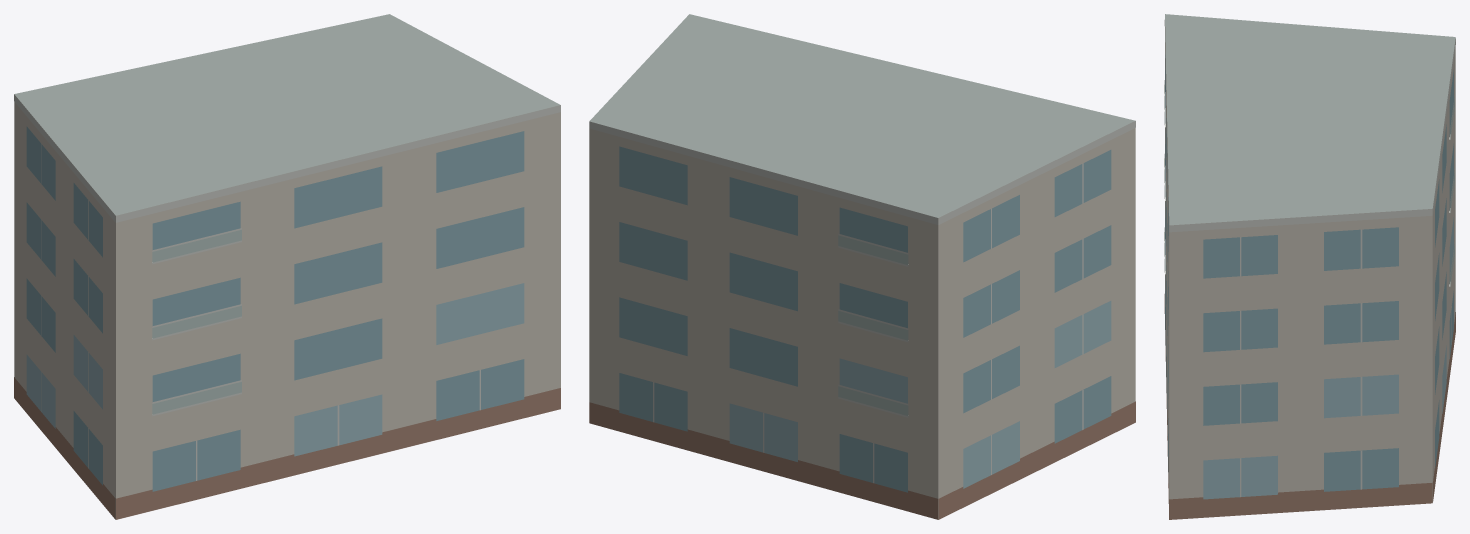
File: survey-upis-32789453.glb
The picture shows the model from 3 angles, left to right: view 1: azimuth 30°, elevation 25°; view 2: azimuth 150°, elevation 25°; view 3: azimuth 270°, elevation 25°; orthographic projection. The views are drawn at different scales.
Visible parts, largest first — view 1: survey-upis-32789453.tmp; view 2: survey-upis-32789453.tmp; view 3: survey-upis-32789453.tmp.
Part boxes in pixels (left/top/right/bottom): survey-upis-32789453.tmp: left=14, top=14, right=560, bottom=519; survey-upis-32789453.tmp: left=589, top=14, right=1135, bottom=519; survey-upis-32789453.tmp: left=1164, top=14, right=1455, bottom=519.
Size of the model in its own units: 16.02 by 10.4 by 9.35.
